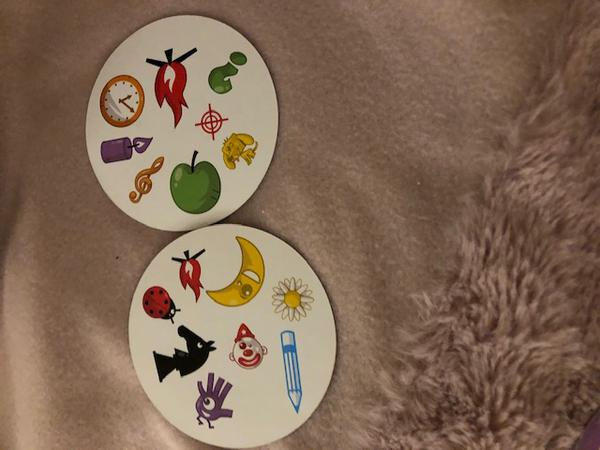bougie: (99, 135, 155, 164)
cheval: (148, 323, 215, 387)
chien: (221, 123, 259, 172)
cible: (195, 101, 231, 141)
clown: (226, 319, 268, 373)
coccinelle: (138, 283, 183, 325)
crayon: (280, 325, 310, 415)
dooble: (190, 372, 237, 432)
feu: (143, 46, 198, 130), (169, 247, 206, 304)
fleur: (270, 272, 318, 326)
horloge: (91, 72, 145, 128)
lune: (206, 236, 268, 310)
note: (126, 155, 165, 207)
point_interrogation: (207, 47, 248, 100)
pomme: (164, 151, 225, 216)
